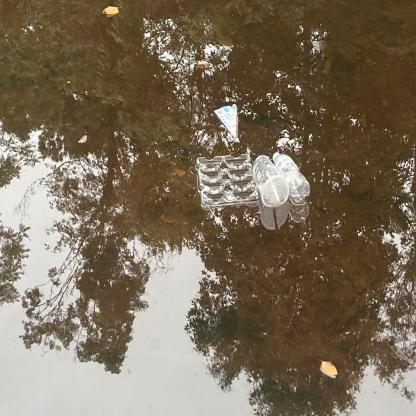Plastic: (192, 146, 312, 212), (211, 97, 245, 146)
